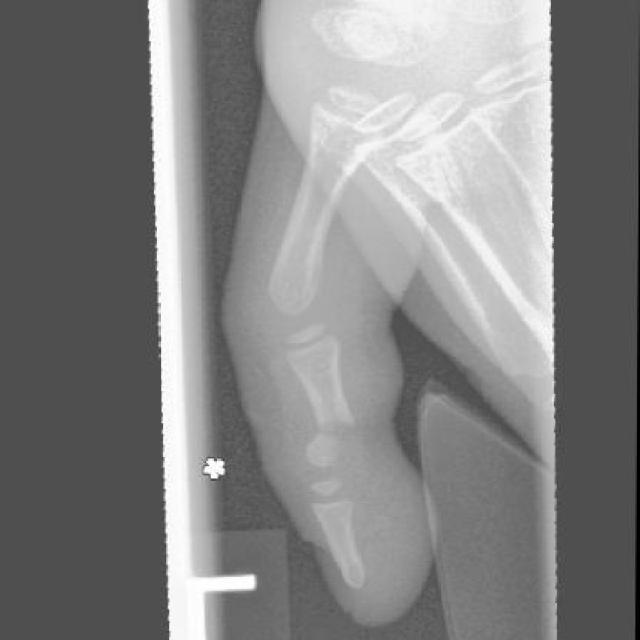Fracture: (308, 402, 356, 465)
